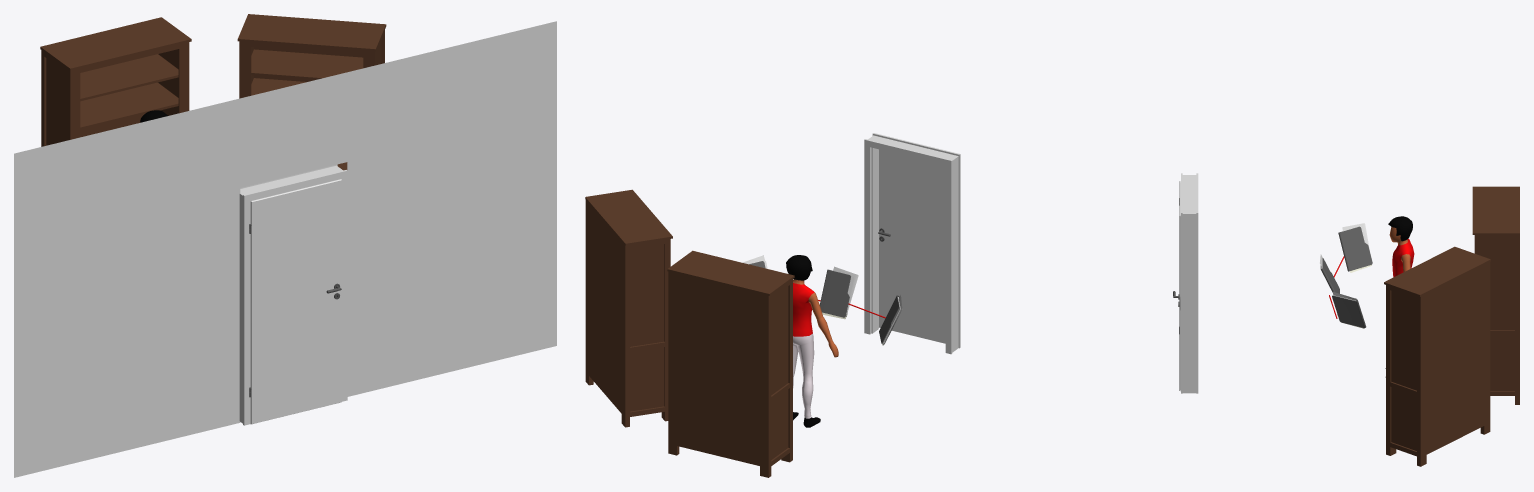
3 views of the same model, side by side, from view 1: azimuth 30°, elevation 25°; view 2: azimuth 150°, elevation 25°; view 3: azimuth 270°, elevation 25° (orthographic). The views are drawn at different scales.
Parts seen in each view (by area): view 1: Plane, Plane.001, bookstand, bookstand_body_0.001, Plane.002; view 2: bookstand, bookstand_body_0.001, Plane.001, Plane.002, corpo.001, Folder_1Shape; view 3: bookstand_body_0.001, bookstand, Plane.002, Folder_1Shape.001, corpo.001, Folder_1Shape.002, Plane.001, corpo.002.
Part boxes in pixels (x1,y1,x2,y2): Plane: (14,21,556,477); Plane.001: (249,179,341,424); bookstand: (40,17,191,146); bookstand_body_0.001: (237,14,386,170); Plane.002: (239,164,347,425); bookstand: (667,250,794,477); bookstand_body_0.001: (585,189,672,427); Plane.001: (879,149,945,343); Plane.002: (864,133,960,354); corpo.001: (793,279,838,427); Folder_1Shape: (820,269,850,317); bookstand_body_0.001: (1384,246,1490,466); bookstand: (1472,186,1519,404); Plane.002: (1179,173,1198,393); Folder_1Shape.001: (1338,226,1372,271); corpo.001: (1385,227,1414,377); Folder_1Shape.002: (1332,295,1366,328); Plane.001: (1178,181,1180,391); corpo.002: (1388,216,1412,241).
Size of the model in its own units: 7.39 by 4.23 by 5.2.
14 materials, 1 textured.
